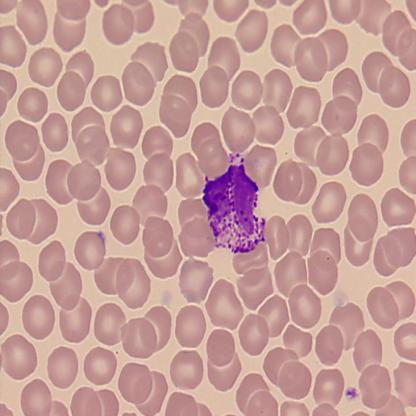Basophil: (201, 159, 268, 254)
